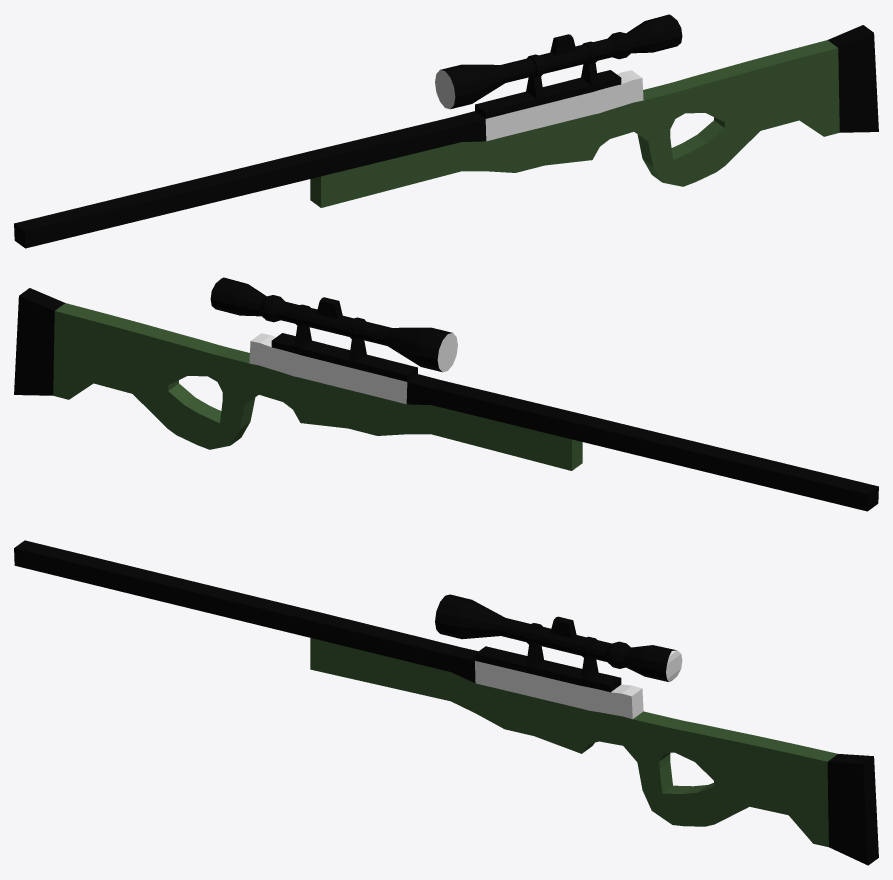
The model's file is SniperRifle.fbx.
3 renders of one model, top to bottom at view 1: azimuth 30°, elevation 25°; view 2: azimuth 150°, elevation 25°; view 3: azimuth 330°, elevation 25°, orthographic.
Visible parts, largest first — view 1: Cube.035; view 2: Cube.035; view 3: Cube.035.
Boxes of the visible parts, left/top/right/bottom form: Cube.035: left=14, top=14, right=878, bottom=248; Cube.035: left=14, top=277, right=878, bottom=511; Cube.035: left=14, top=540, right=878, bottom=865.
Bounding box in the file's own units: 2331 × 454 × 96.39.
